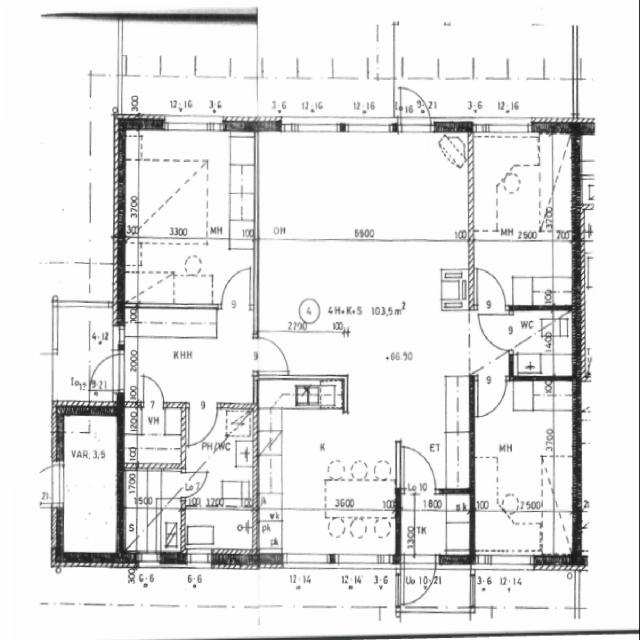door: (20, 465, 64, 504), (404, 555, 436, 607), (400, 80, 430, 131), (82, 355, 124, 390), (404, 450, 436, 494), (479, 315, 513, 350), (477, 269, 506, 309), (221, 269, 250, 309), (478, 375, 506, 415), (189, 402, 217, 442), (254, 338, 287, 371), (181, 472, 205, 497), (143, 378, 163, 407)
